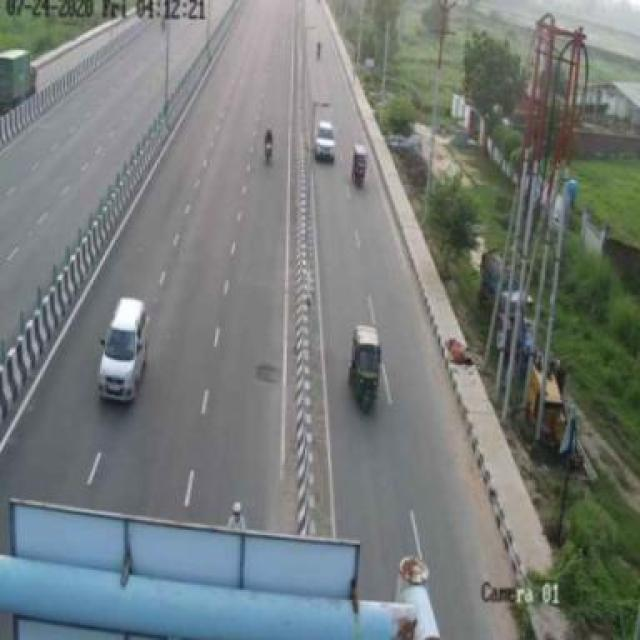car: (95, 293, 160, 407), (315, 108, 342, 160)
